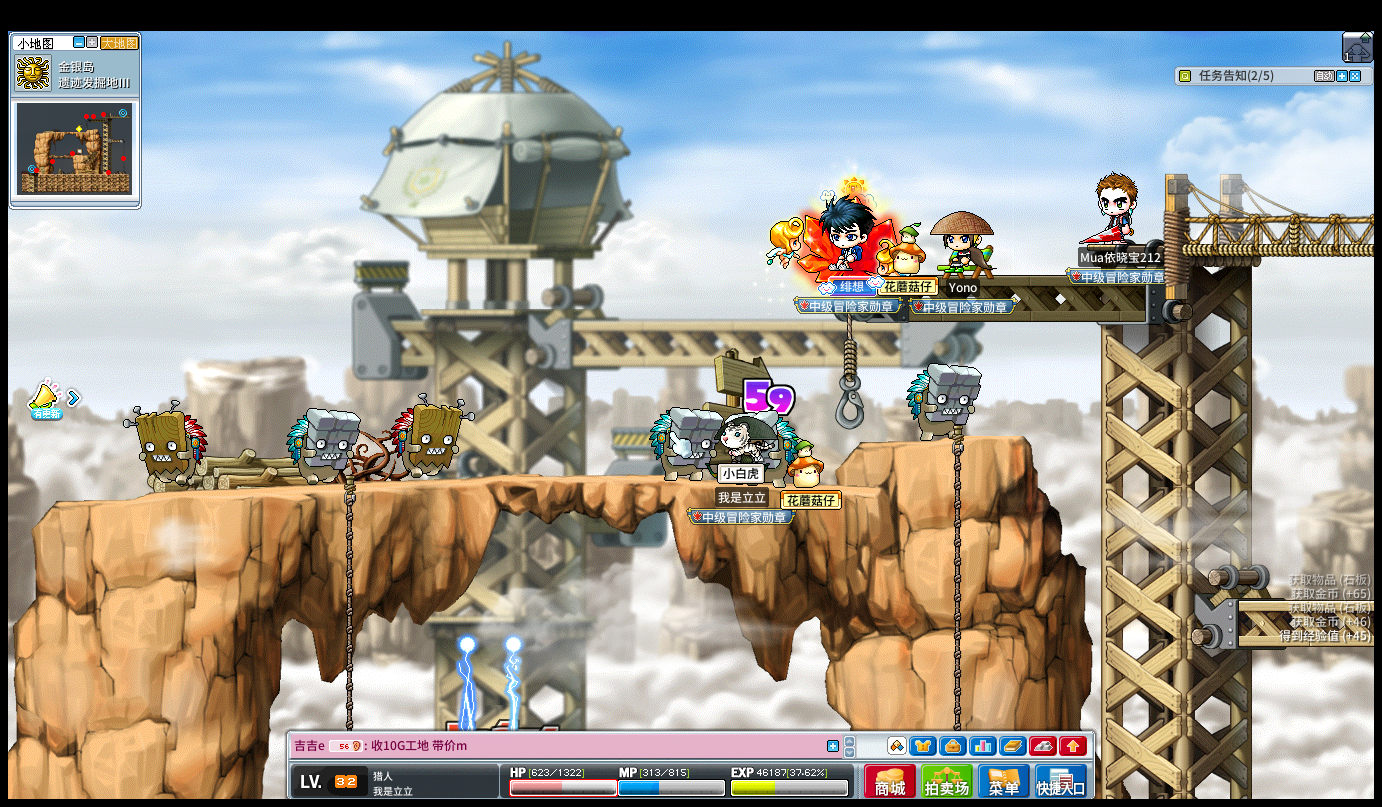floor: (50, 471, 946, 500), (73, 469, 923, 493), (857, 431, 1030, 447), (859, 435, 1032, 449), (1236, 598, 1372, 612)
monster: (126, 402, 208, 493), (389, 395, 469, 480), (906, 361, 982, 442), (286, 407, 360, 487), (649, 406, 718, 482)
rope: (340, 467, 355, 807), (949, 425, 964, 726), (341, 469, 356, 711)
